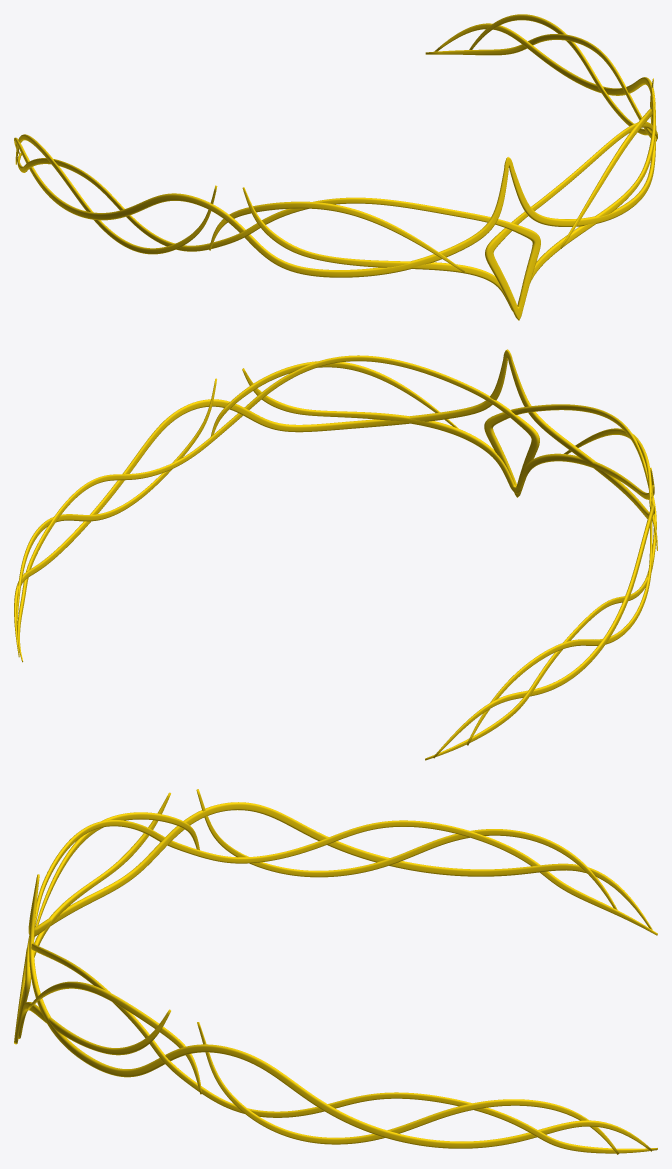
The model's file is diadem.fbx.
The picture shows the model from 3 angles, top to bottom: view 1: azimuth 30°, elevation 25°; view 2: azimuth 150°, elevation 25°; view 3: azimuth 270°, elevation 25°; orthographic projection. The views are drawn at different scales.
Visible parts, largest first — view 1: diadema.; view 2: diadema.; view 3: diadema..
Boxes of the visible parts, x1=… form: diadema.: x1=14, y1=14, x2=657, y2=320; diadema.: x1=14, y1=349, x2=657, y2=760; diadema.: x1=14, y1=789, x2=657, y2=1154.
Bounding box in the file's own units: 698 × 201 × 691.
